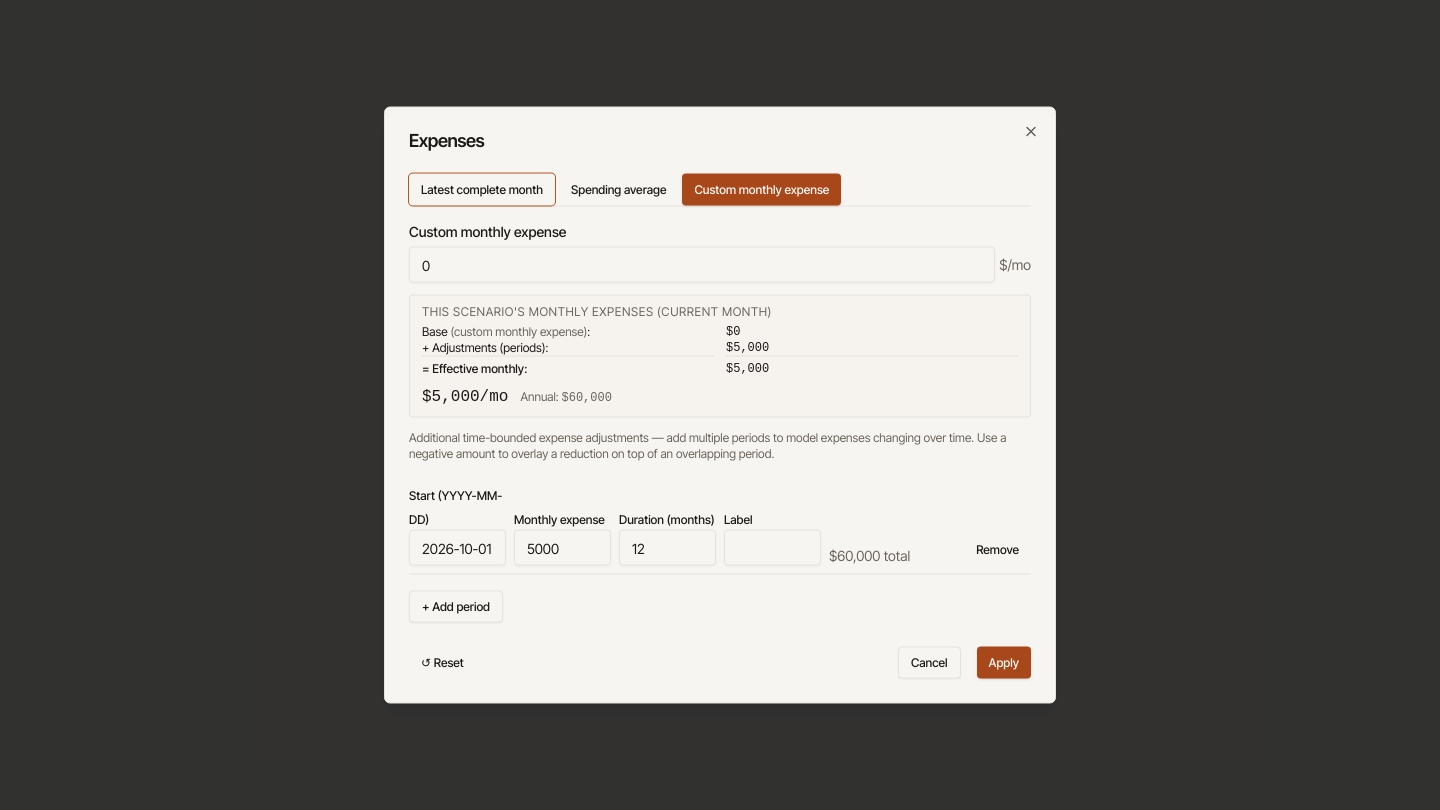
Test: ExpensePeriodsPopover — monthly + annual summary (revamp 2026-05-26) › updates the summary live as the user edits a period
This screenshot has width=1440, height=810.
Replace the text in the number field labelled "Monthly expense" with "6000" at x=562, y=548, box [514, 530, 611, 566]
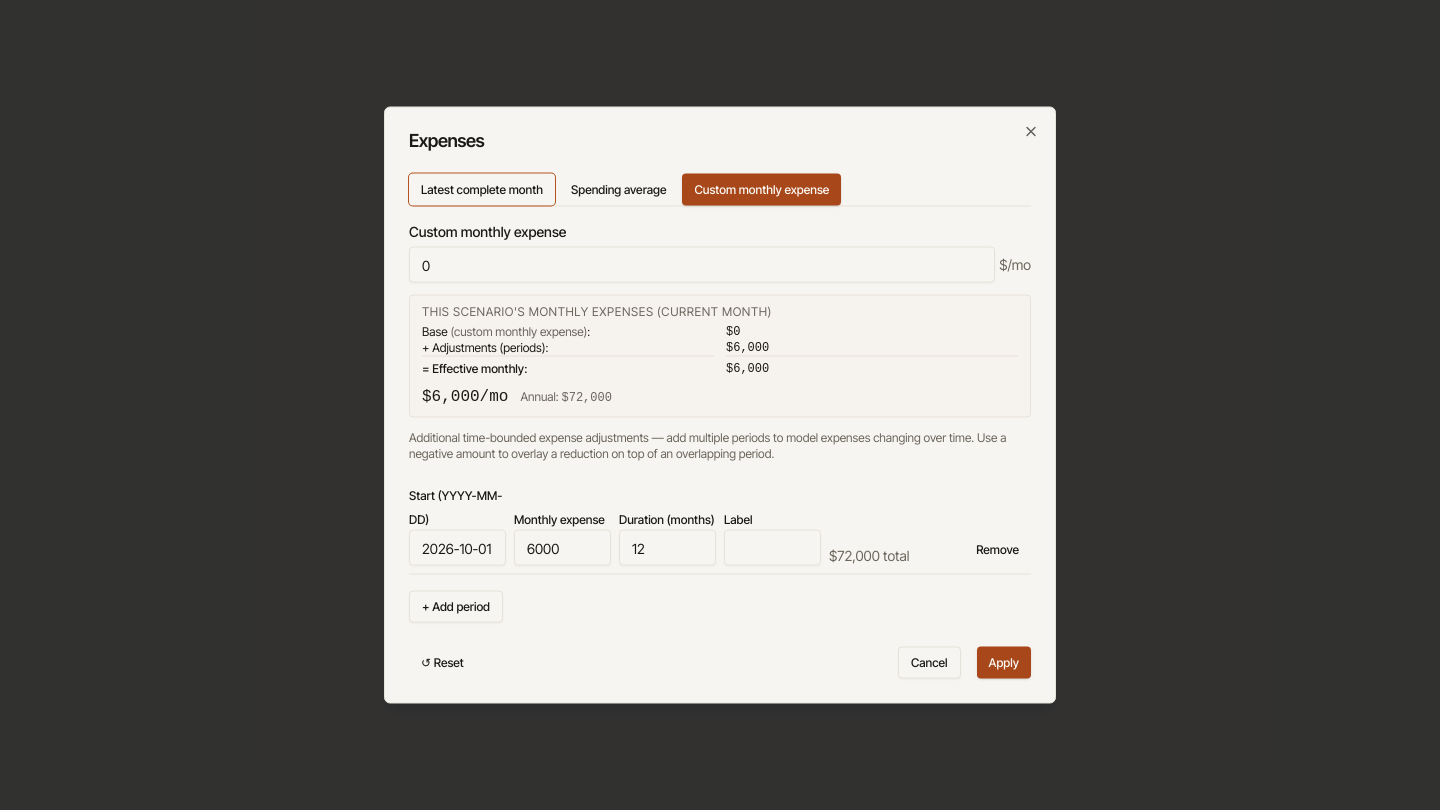
Now the text with test id "expense-summary-monthly" shows "$6,000", box [422, 388, 480, 406]
Now the text with test id "expense-summary-annual" reads "$72,000", box [562, 390, 612, 404]
